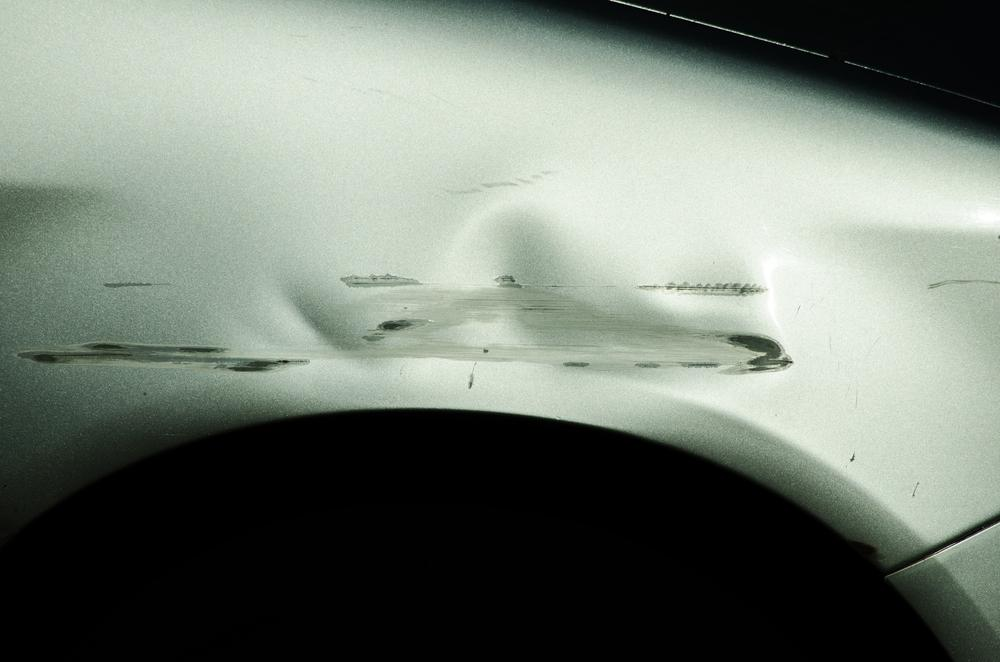dent: (264, 205, 792, 386)
scratch: (8, 330, 283, 381)
